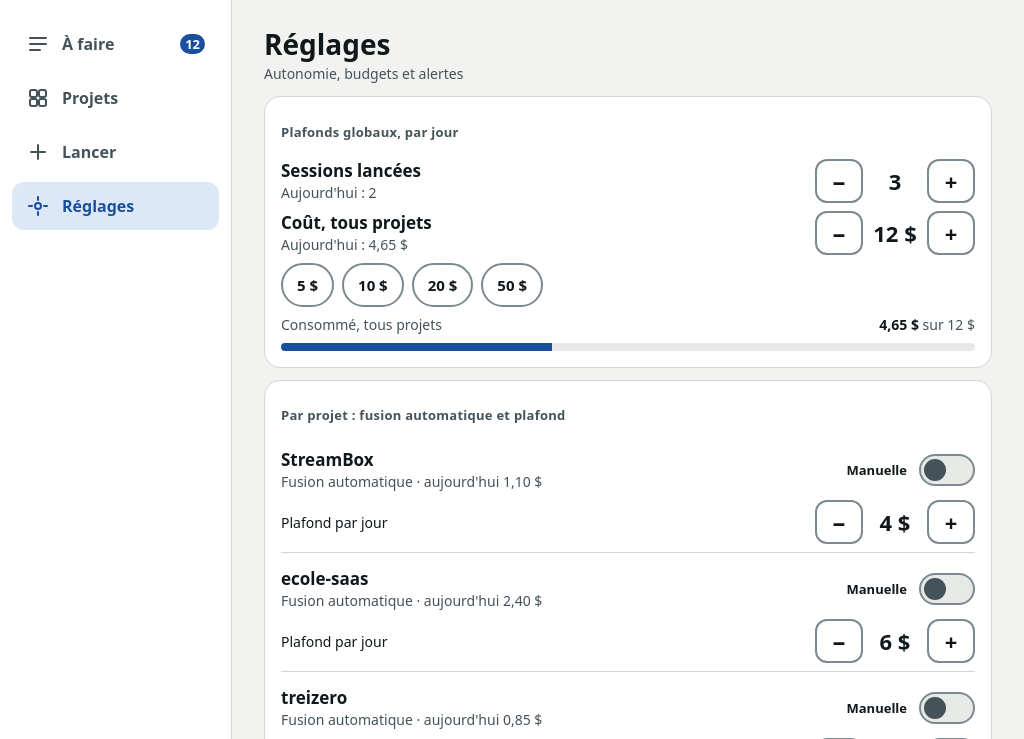
Test: Réglages › pas à pas : bornes respectées, boutons nommés
The image size is (1024, 739).
Check: the text "3" is shown, box [889,166,901,196]
Click the button named "Diminuer le plafond de sessions" at (839, 181), box [815,159,863,203]
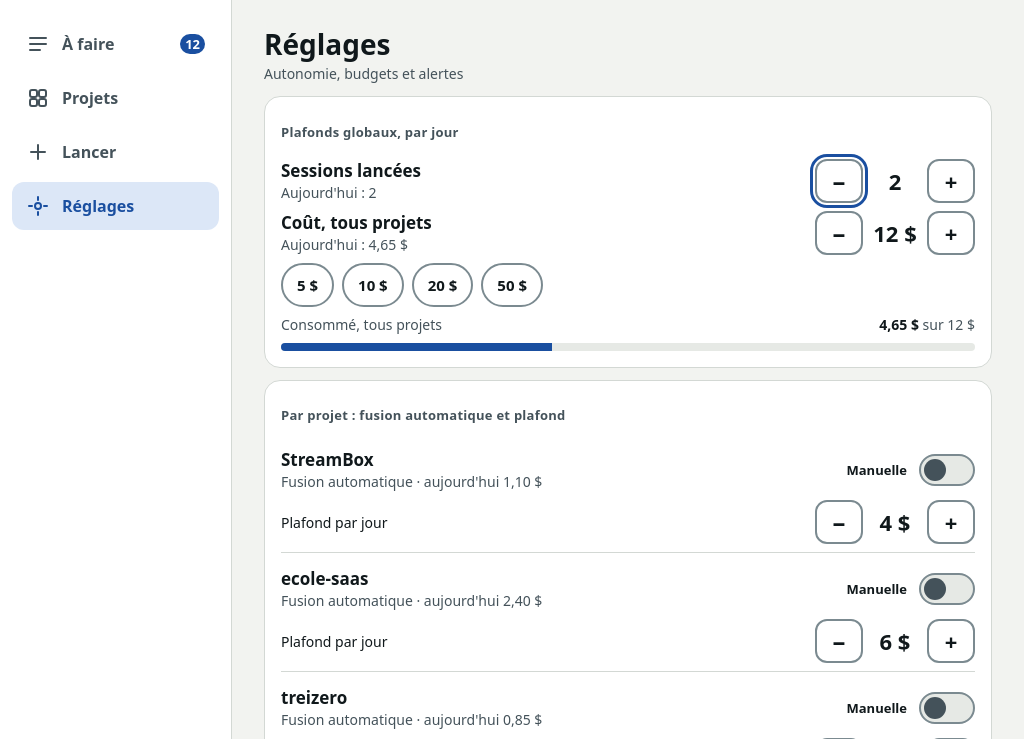
Click the button named "Diminuer le plafond de sessions" at (839, 181), box [815,159,863,203]
(page scrolled)
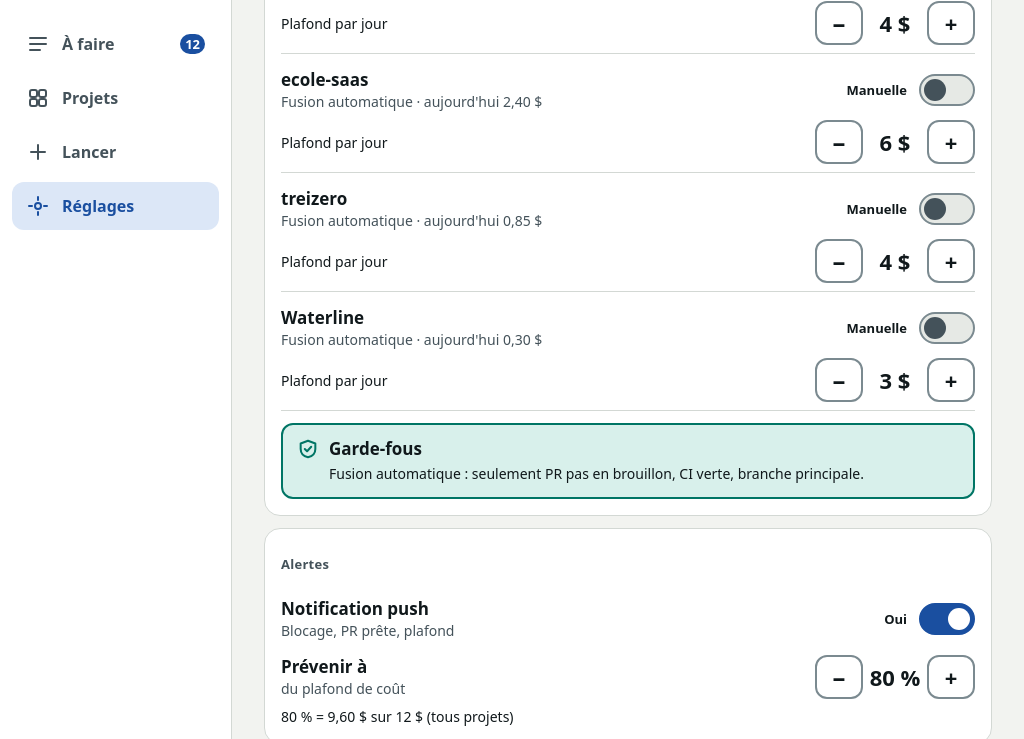
Click the button named "Augmenter le seuil d'alerte" at (951, 677), box [927,655,975,699]
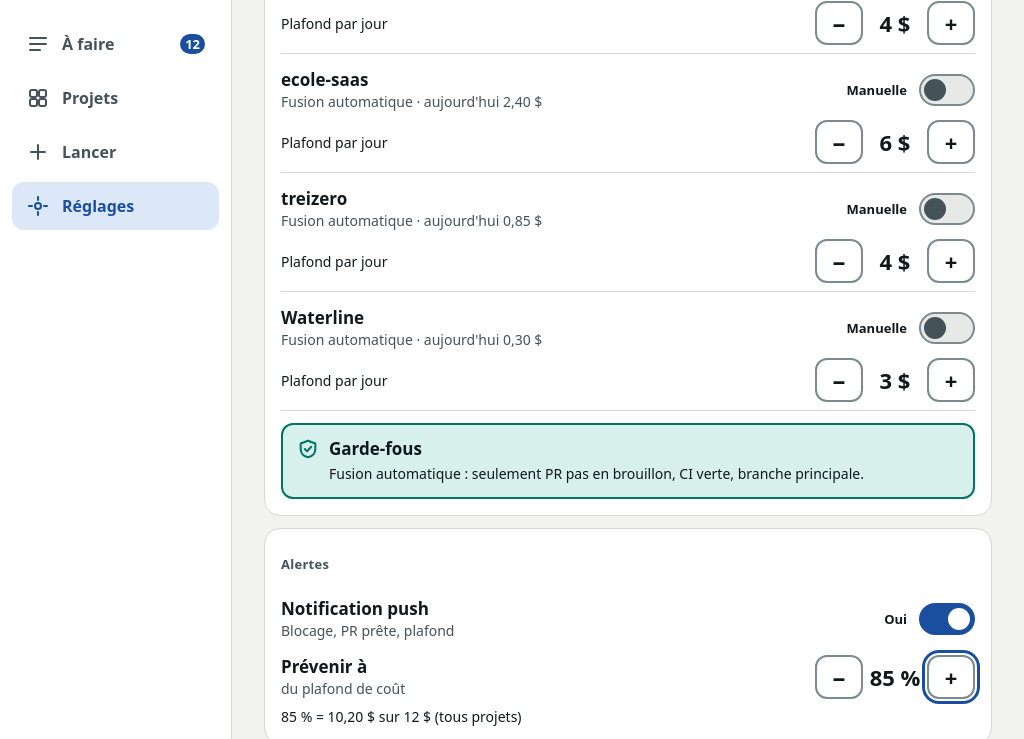
Click the button named "Augmenter le seuil d'alerte" at (951, 677), box [927,655,975,699]
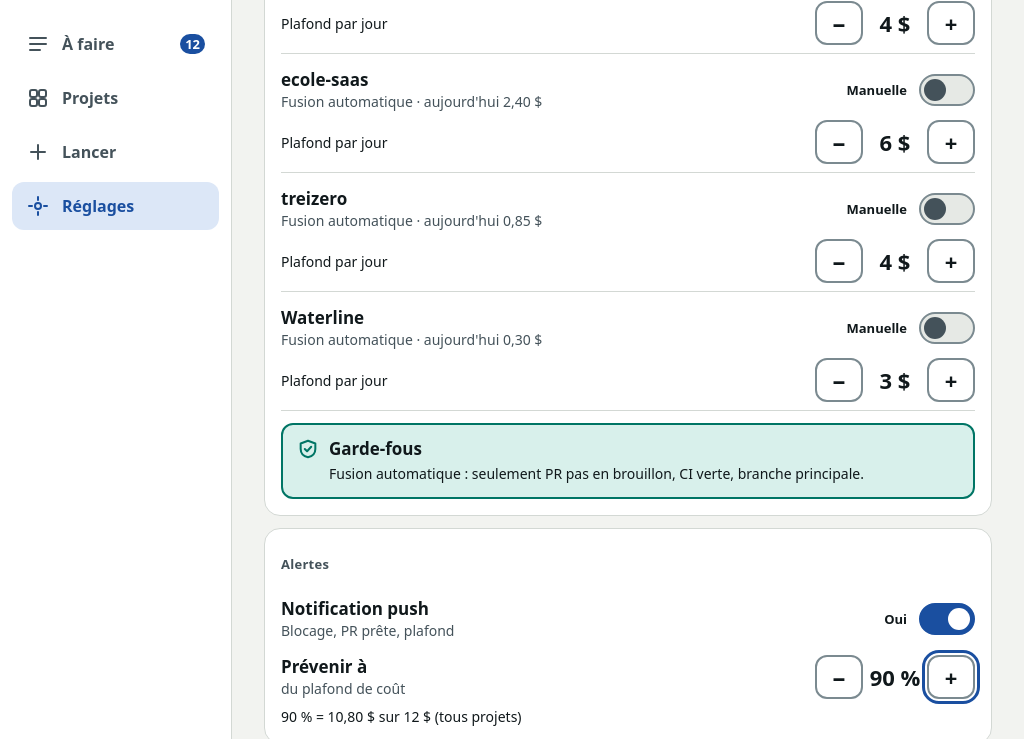
Click the button named "Augmenter le seuil d'alerte" at (951, 677), box [927,655,975,699]
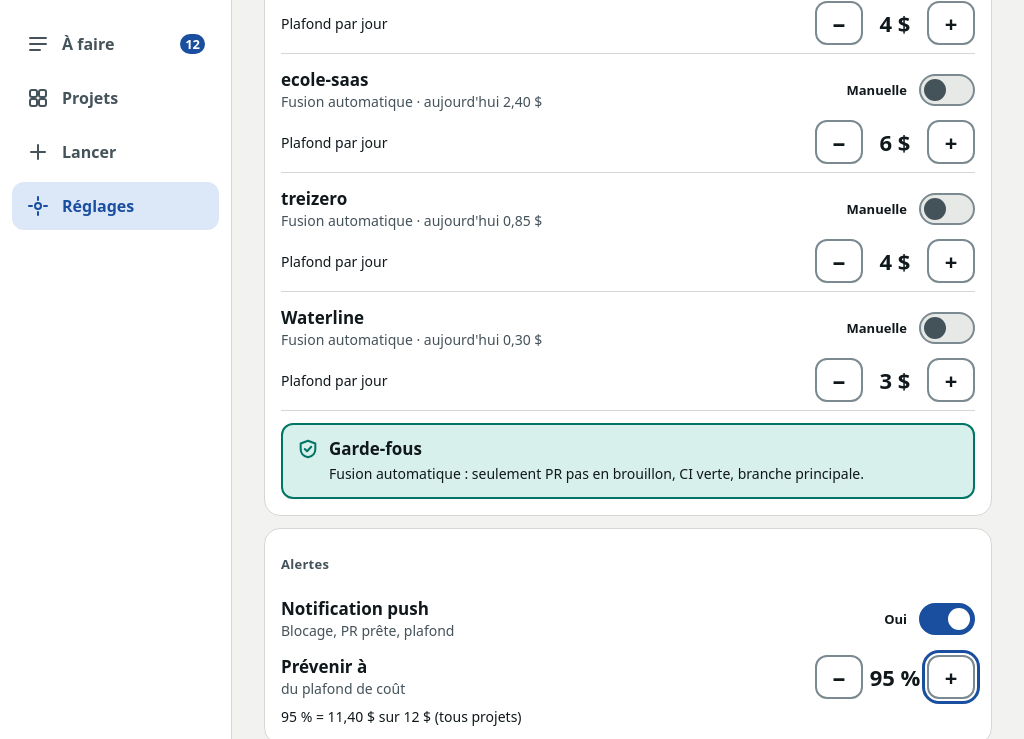
Click the button named "Augmenter le seuil d'alerte" at (951, 677), box [927,655,975,699]
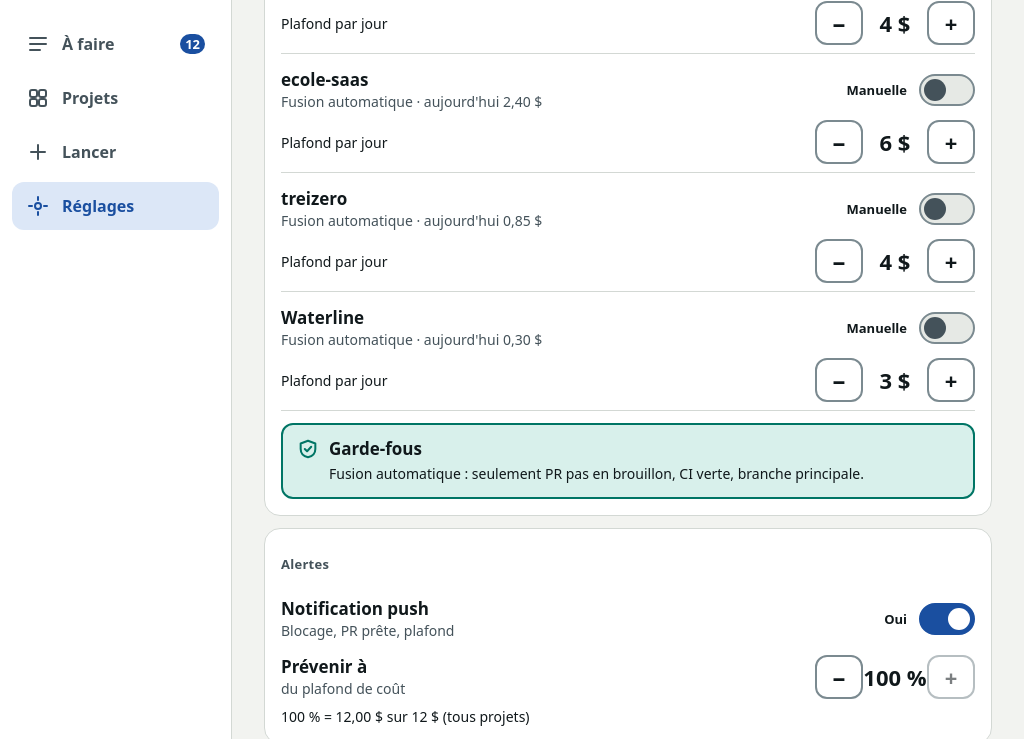
Check: the text "100 %" is shown, box [863,664,927,690]
Check: the button named "Augmenter le seuil d'alerte" is disabled, box [927,655,975,699]
